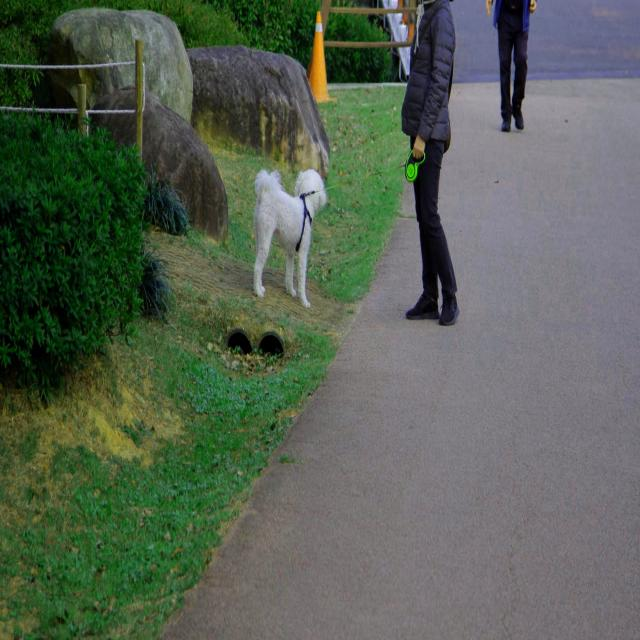Leashed_Dog: (253, 136, 425, 310)
